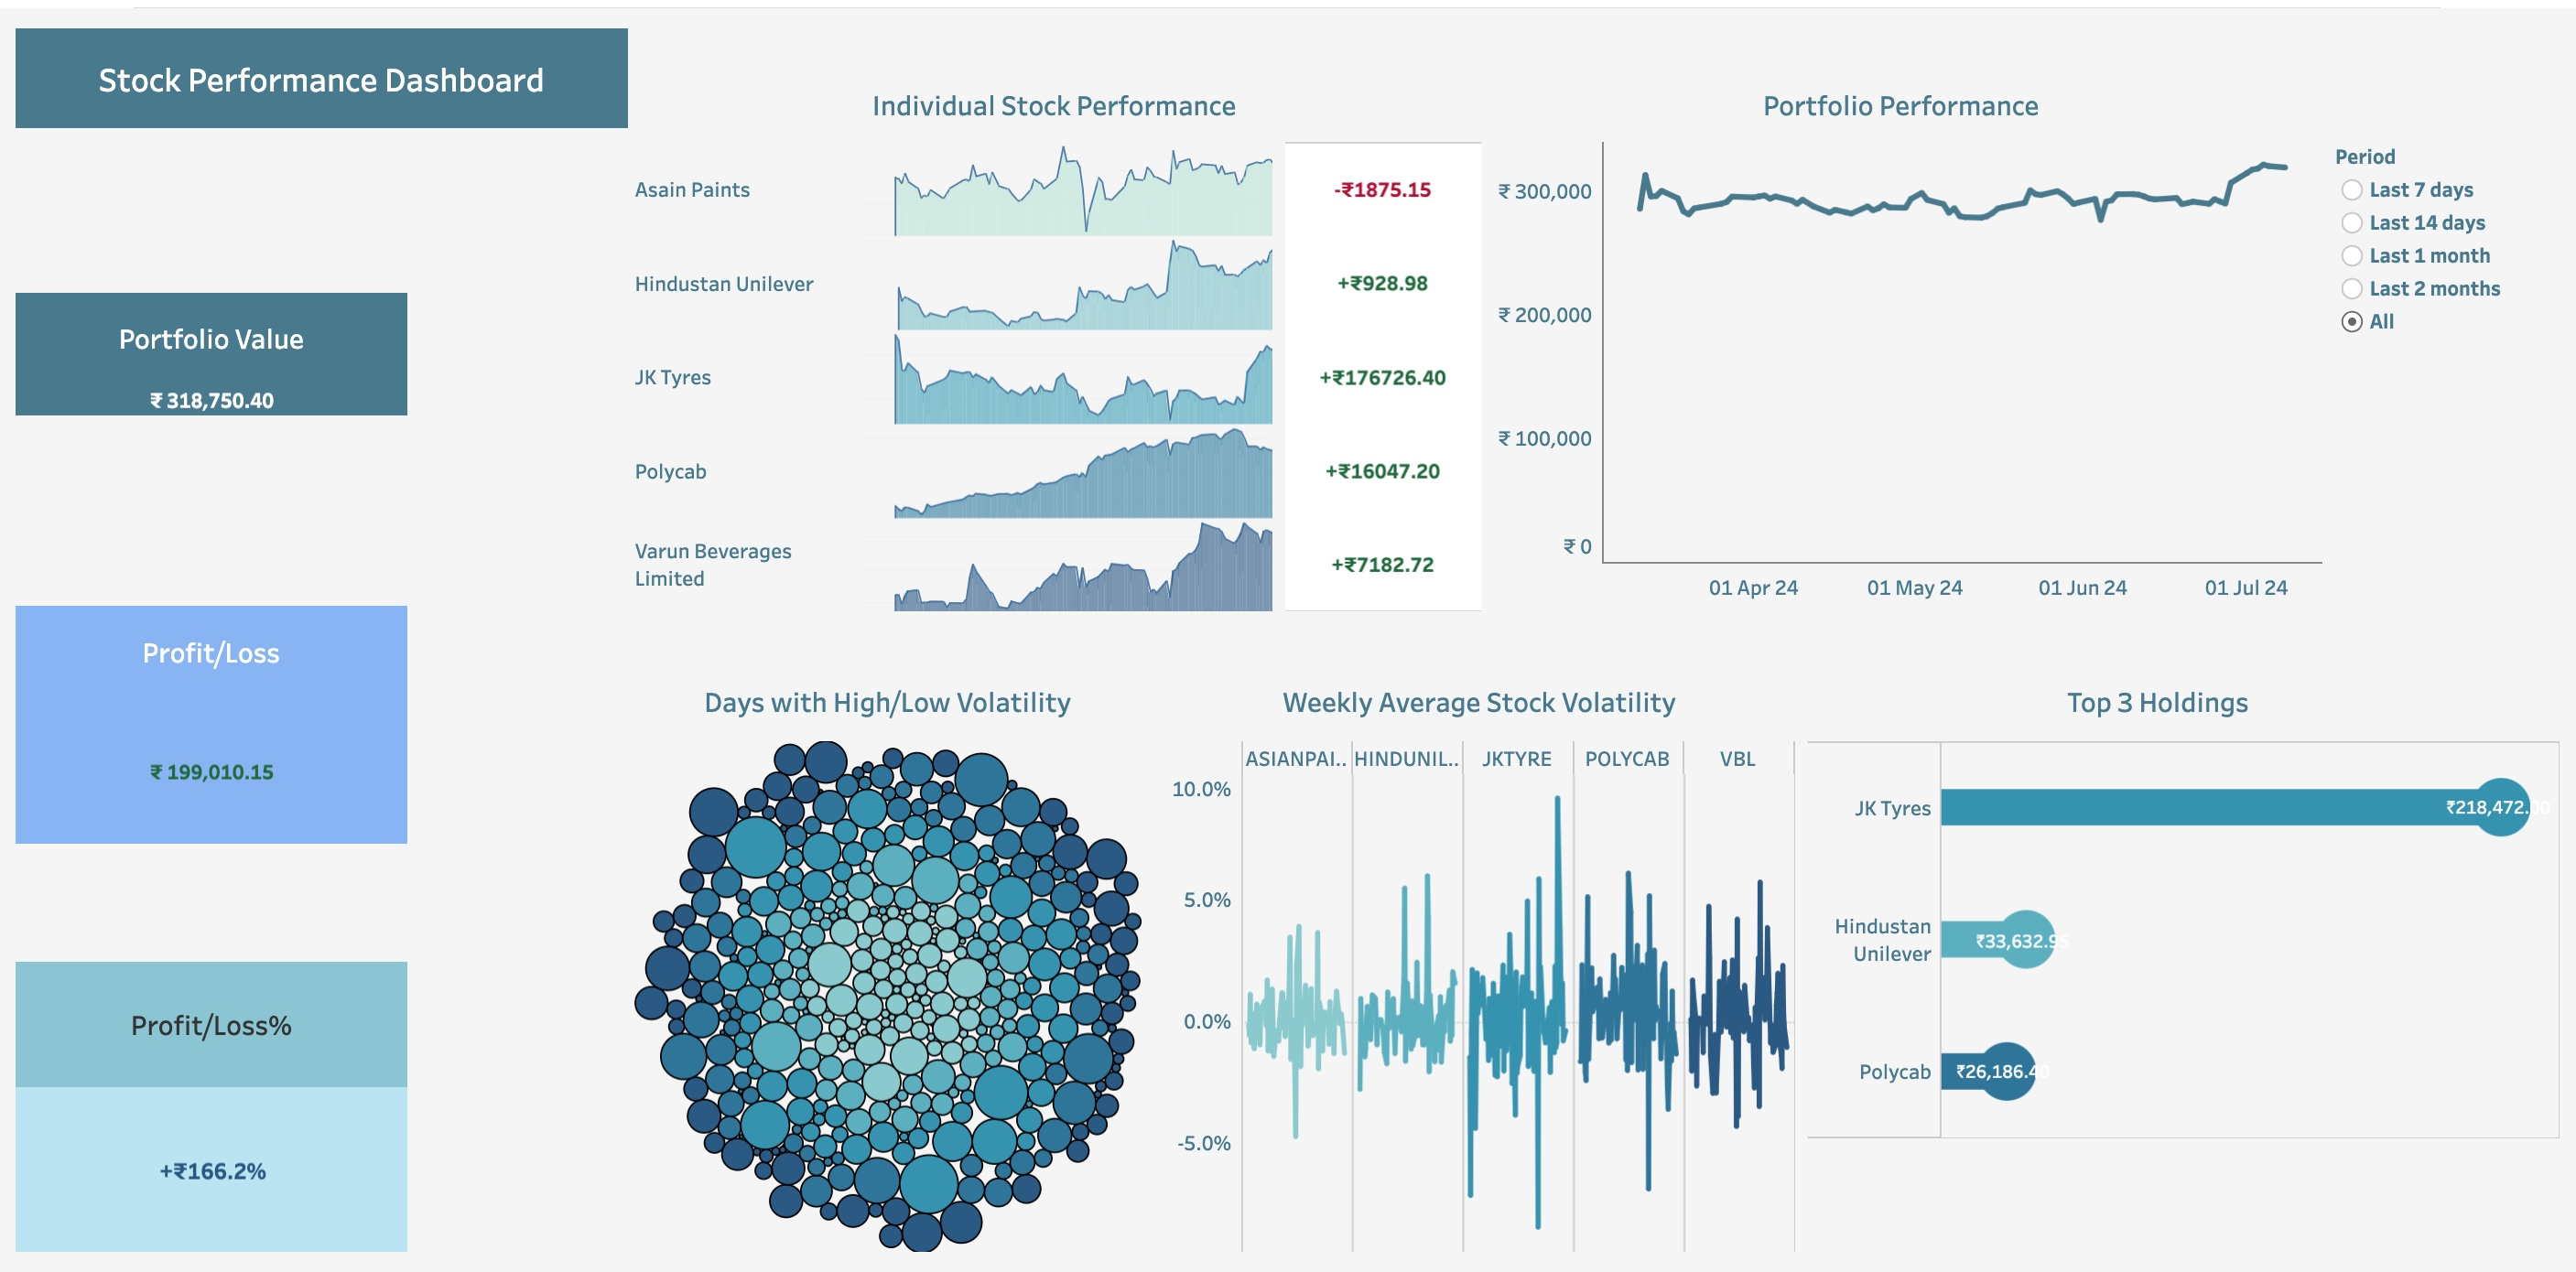

The page's visual inventory and layout, read from the dashboard file:
{"tool":"tableau","page":{"name":"Dashboard 1","canvas":[1000,1000],"units":"permille","ordinal":0},"visuals":[{"type":"text","box":[6.1,13.8,242,89.7]},{"type":"text","box":[248.1,54.2,324.1,49.2]},{"type":"text","box":[572.2,54.2,330.3,49.2]},{"type":"worksheet","title":"StockAreacharts","mark":"Area","rows":["Calculation_695806179210350592","Close"],"cols":["Day"],"box":[241.3,103.4,305.4,379.4]},{"type":"worksheet","title":"P/L","mark":"Automatic","rows":["Stock"],"box":[546.7,103.4,96.7,379.4]},{"type":"worksheet","title":"Portfolio line chart","mark":"Automatic","rows":["Calculation_695806179229167620"],"cols":["Day"],"box":[643.5,103.4,259.1,379.4]},{"type":"parameter","param":"[Parameters].[Parameter 1]","box":[902.5,103.4,91.4,379.4]},{"type":"worksheet","title":"Portfolio value","mark":"Automatic","cols":["Calculation_695806179248652294"],"box":[6.1,243.9,156.8,140.5]},{"type":"text","box":[241.3,521.4,208.3,52.9]},{"type":"text","box":[449.7,521.4,248.8,52.9]},{"type":"text","box":[698.5,521.4,275.8,52.9]},{"type":"worksheet","title":"P/L card1","mark":"Automatic","cols":["Calculation_695806179250663432"],"box":[6.1,524.8,156.8,140.5]},{"type":"worksheet","title":"Bubble chart","mark":"Circle","box":[241.3,574.3,208.3,411.9]},{"type":"worksheet","title":"Volatility chart","mark":"Automatic","rows":["Daily %age change"],"cols":["Stock","Days"],"box":[449.7,574.3,248.8,411.9]},{"type":"worksheet","title":"Lollipop chart","mark":"Automatic","rows":["Calculation_695806179210350592"],"cols":["Calculation_695806179225628674","Calculation_695806179225628674"],"box":[698.5,574.3,295.5,411.9]},{"type":"worksheet","title":"pr loss % card","mark":"Automatic","cols":["Calculation_695806179252543498"],"box":[6.1,775.2,156.8,211]}]}

Visuals, with their boxes on the dashboard's canvas, which has no fixed pixel size, in thousandths of its width and height (x1, y1, x2, y2). These are canvas units, not pixel positions in the 2576x1272 screenshot, which may show the page scaled, cropped or inside an application window:
text: select_region(6, 14, 248, 104)
text: select_region(248, 54, 572, 103)
text: select_region(572, 54, 902, 103)
"StockAreacharts" worksheet (Area marks): select_region(241, 103, 547, 483)
"P/L" worksheet: select_region(547, 103, 643, 483)
"Portfolio line chart" worksheet: select_region(644, 103, 903, 483)
parameter: select_region(902, 103, 994, 483)
"Portfolio value" worksheet: select_region(6, 244, 163, 384)
text: select_region(241, 521, 450, 574)
text: select_region(450, 521, 698, 574)
text: select_region(698, 521, 974, 574)
"P/L card1" worksheet: select_region(6, 525, 163, 665)
"Bubble chart" worksheet (Circle marks): select_region(241, 574, 450, 986)
"Volatility chart" worksheet: select_region(450, 574, 698, 986)
"Lollipop chart" worksheet: select_region(698, 574, 994, 986)
"pr loss % card" worksheet: select_region(6, 775, 163, 986)
